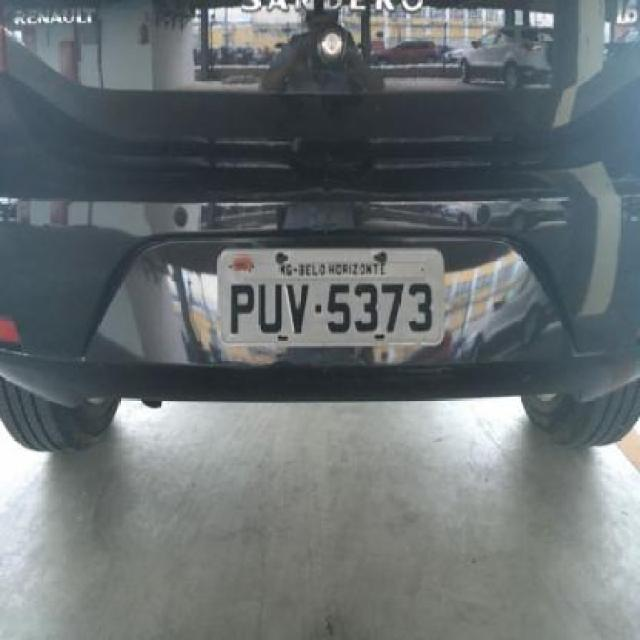old_plate: (210, 241, 452, 353)
